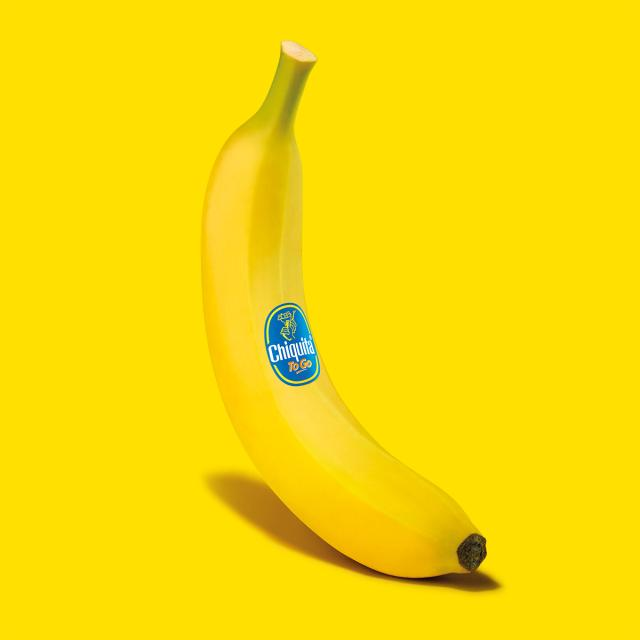banana: (199, 42, 485, 577)
